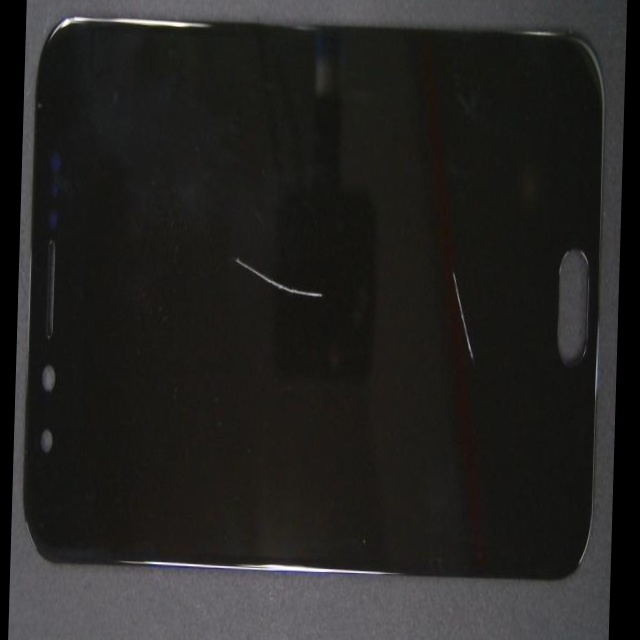scratch: (218, 154, 446, 433)
